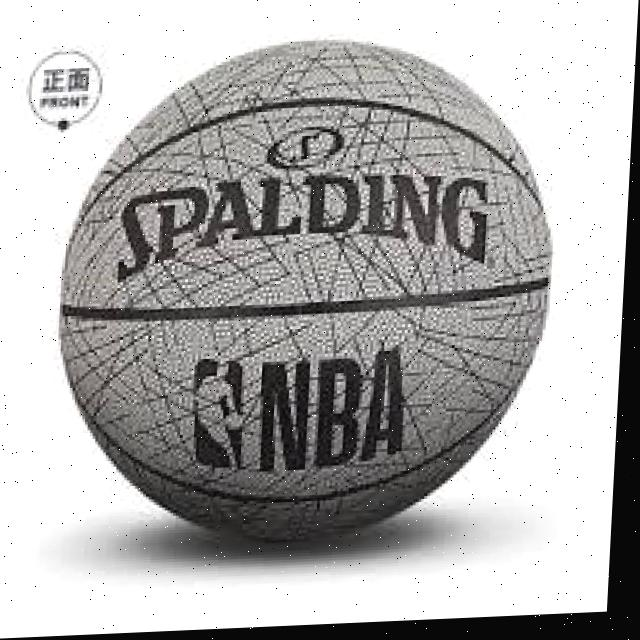Basketball: (37, 34, 576, 539)
